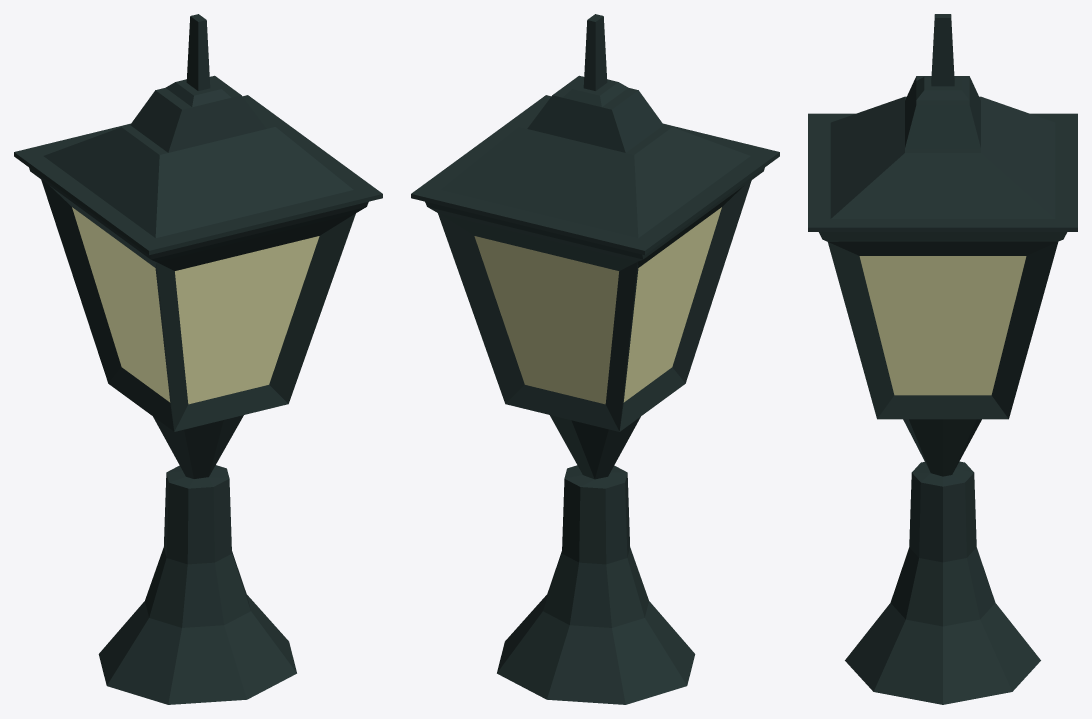
File: Lamp_Ground.fbx
The picture shows the model from 3 angles, left to right: view 1: azimuth 30°, elevation 25°; view 2: azimuth 150°, elevation 25°; view 3: azimuth 270°, elevation 25°; orthographic projection.
Parts seen in each view (by area): view 1: Lamp_Ground; view 2: Lamp_Ground; view 3: Lamp_Ground.
Part boxes in pixels (<box>): Lamp_Ground: <box>14,14,382,704</box>; Lamp_Ground: <box>411,14,779,704</box>; Lamp_Ground: <box>808,14,1077,704</box>.
Bounding box in the file's own units: 17.57 × 46.35 × 17.57.
